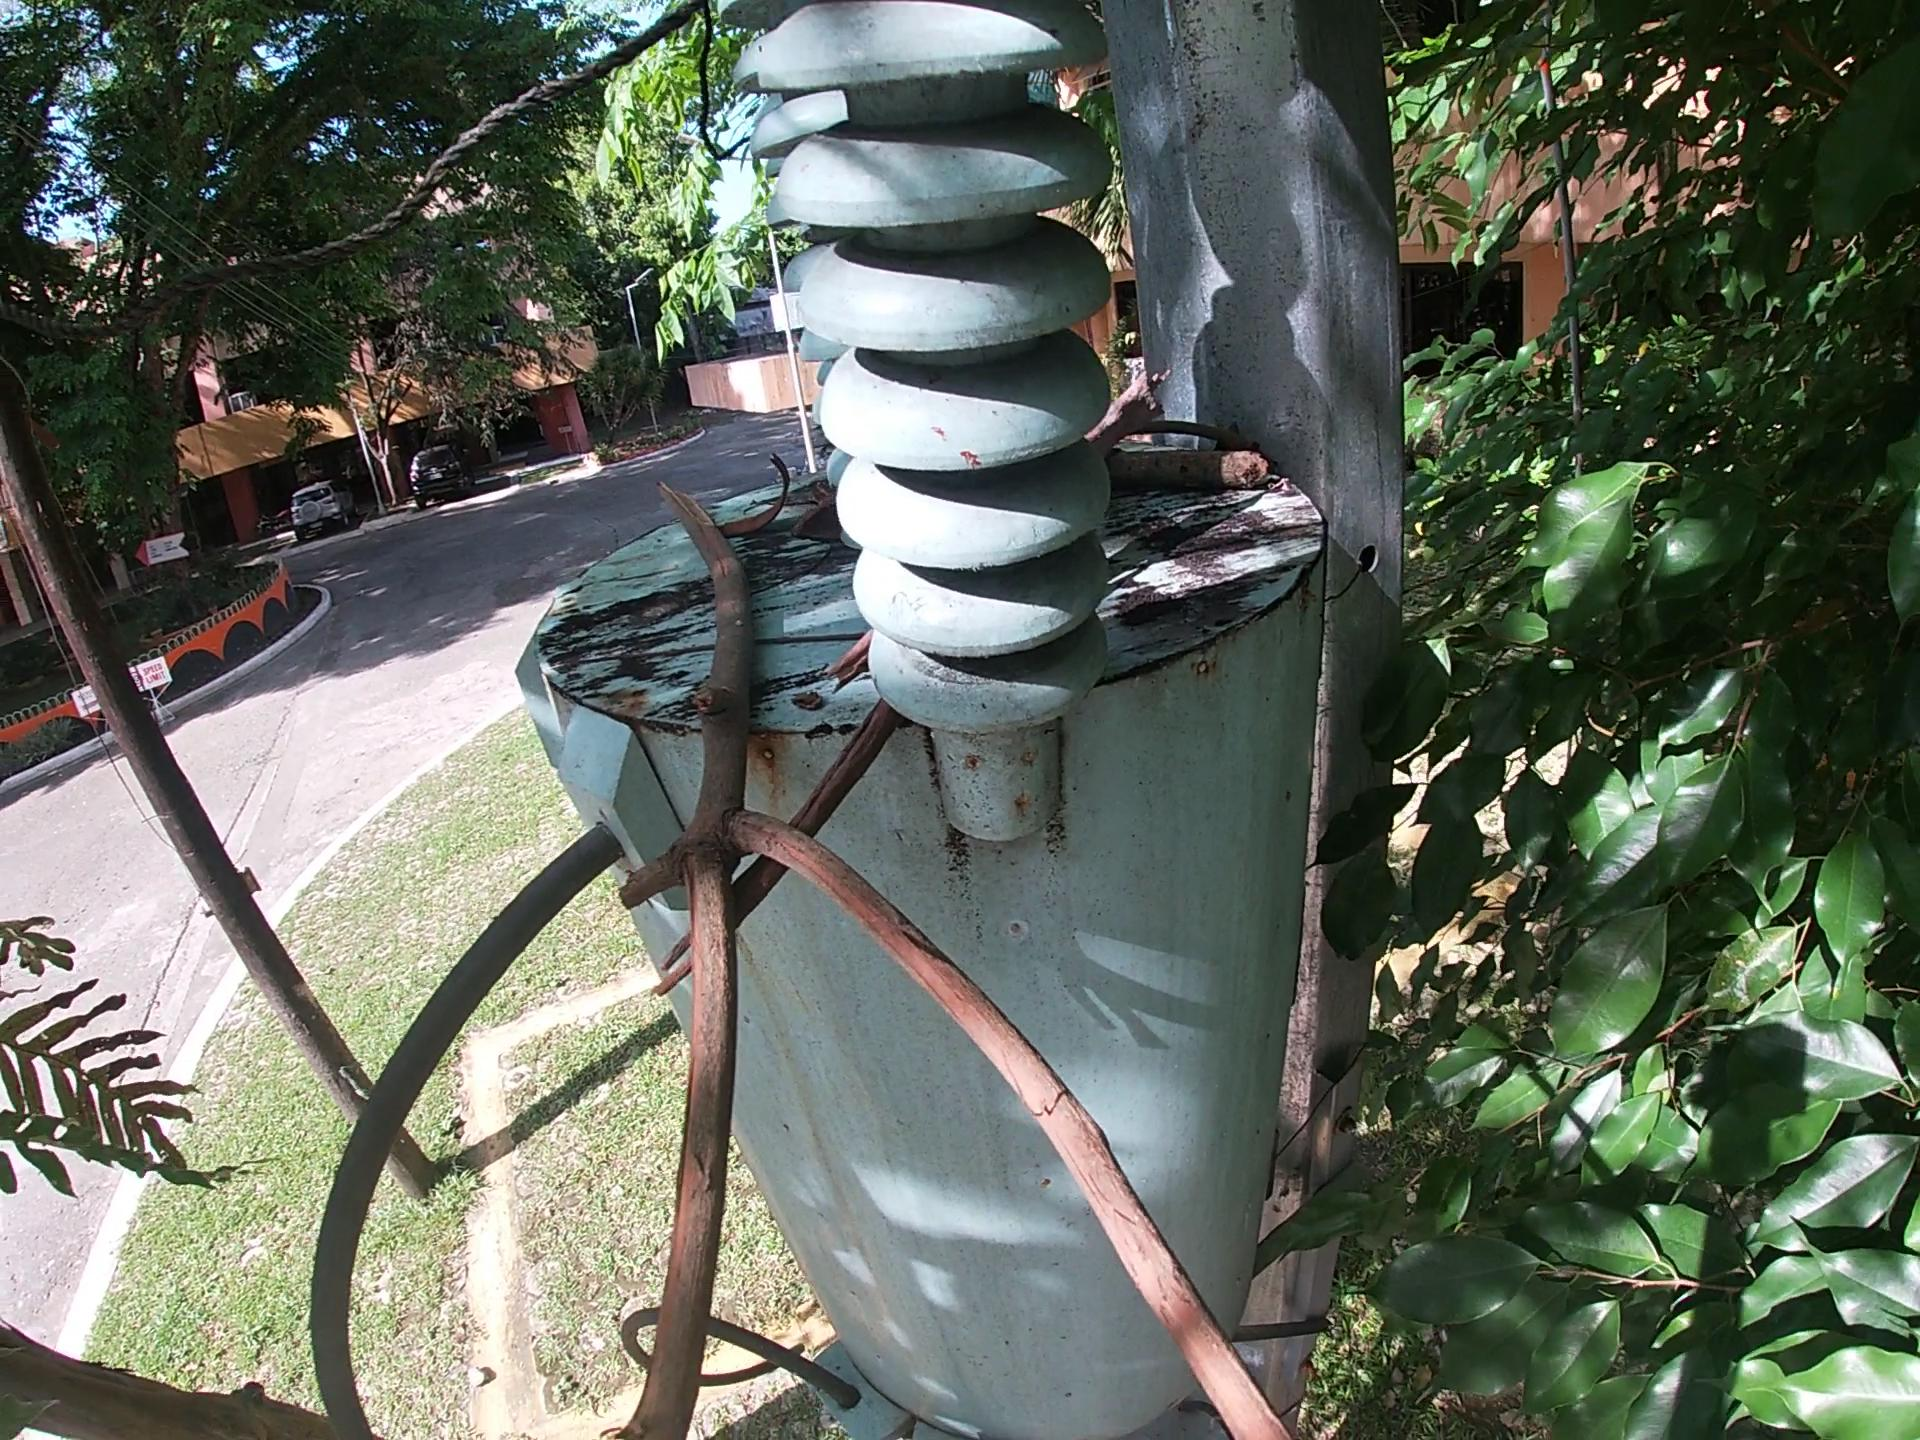mahogany fruit: (721, 448, 792, 529), (795, 504, 835, 551)
tree branch: (638, 476, 1308, 1434), (636, 708, 897, 1001), (582, 622, 862, 684), (1092, 358, 1181, 451), (1107, 451, 1271, 486), (1129, 417, 1284, 446), (827, 638, 871, 709)
